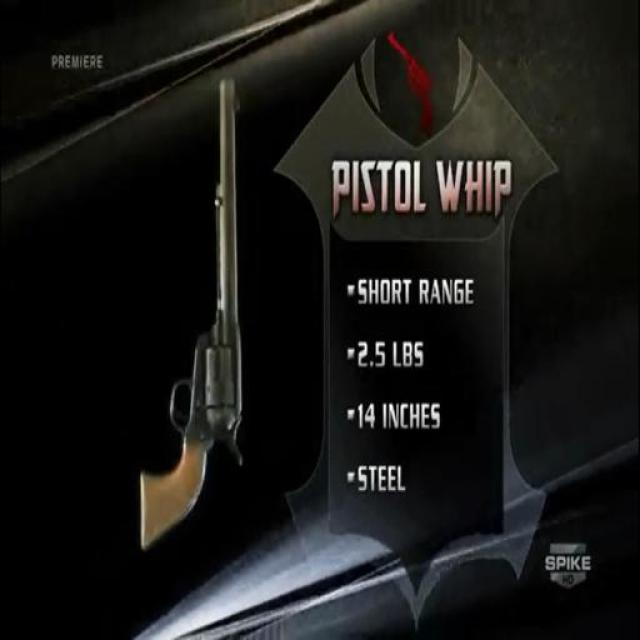pistol: (130, 62, 274, 592)
